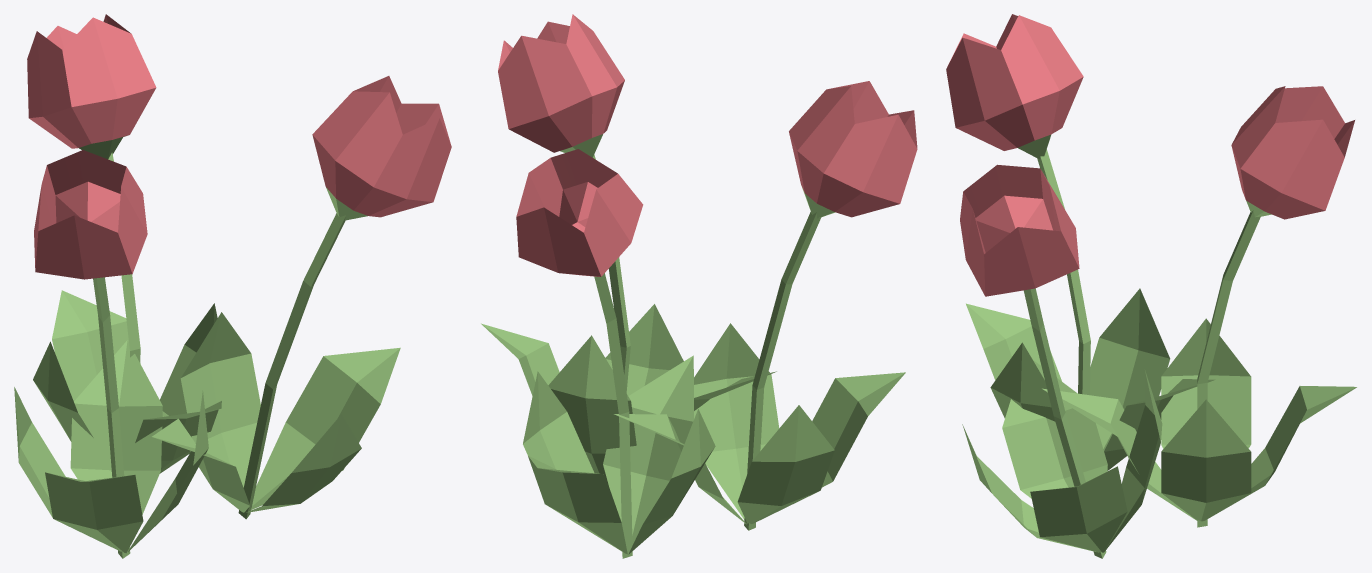
Rendered from roses.glb.
The picture shows the model from 3 angles, left to right: view 1: azimuth 30°, elevation 25°; view 2: azimuth 150°, elevation 25°; view 3: azimuth 270°, elevation 25°; orthographic projection. The views are drawn at different scales.
Parts seen in each view (by area): view 1: roses; view 2: roses; view 3: roses.
Boxes of the visible parts, bbox=[...] form: roses: bbox=[14, 14, 451, 558]; roses: bbox=[481, 14, 917, 558]; roses: bbox=[946, 14, 1356, 558].
Bounding box in the file's own units: 70.85 × 73.6 × 61.9.
